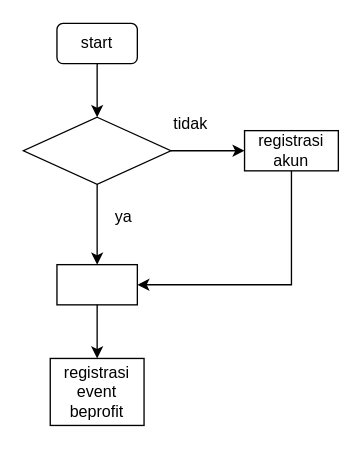
Some shapes in this 362 by 449 pixel diagram are drawn without their labels. The shapes that lost their labels are listed below. From the top down, each one's centre as x and y in pixels, then its label:
At point 96,150: "punya akun?".
At point 96,284: "login".
